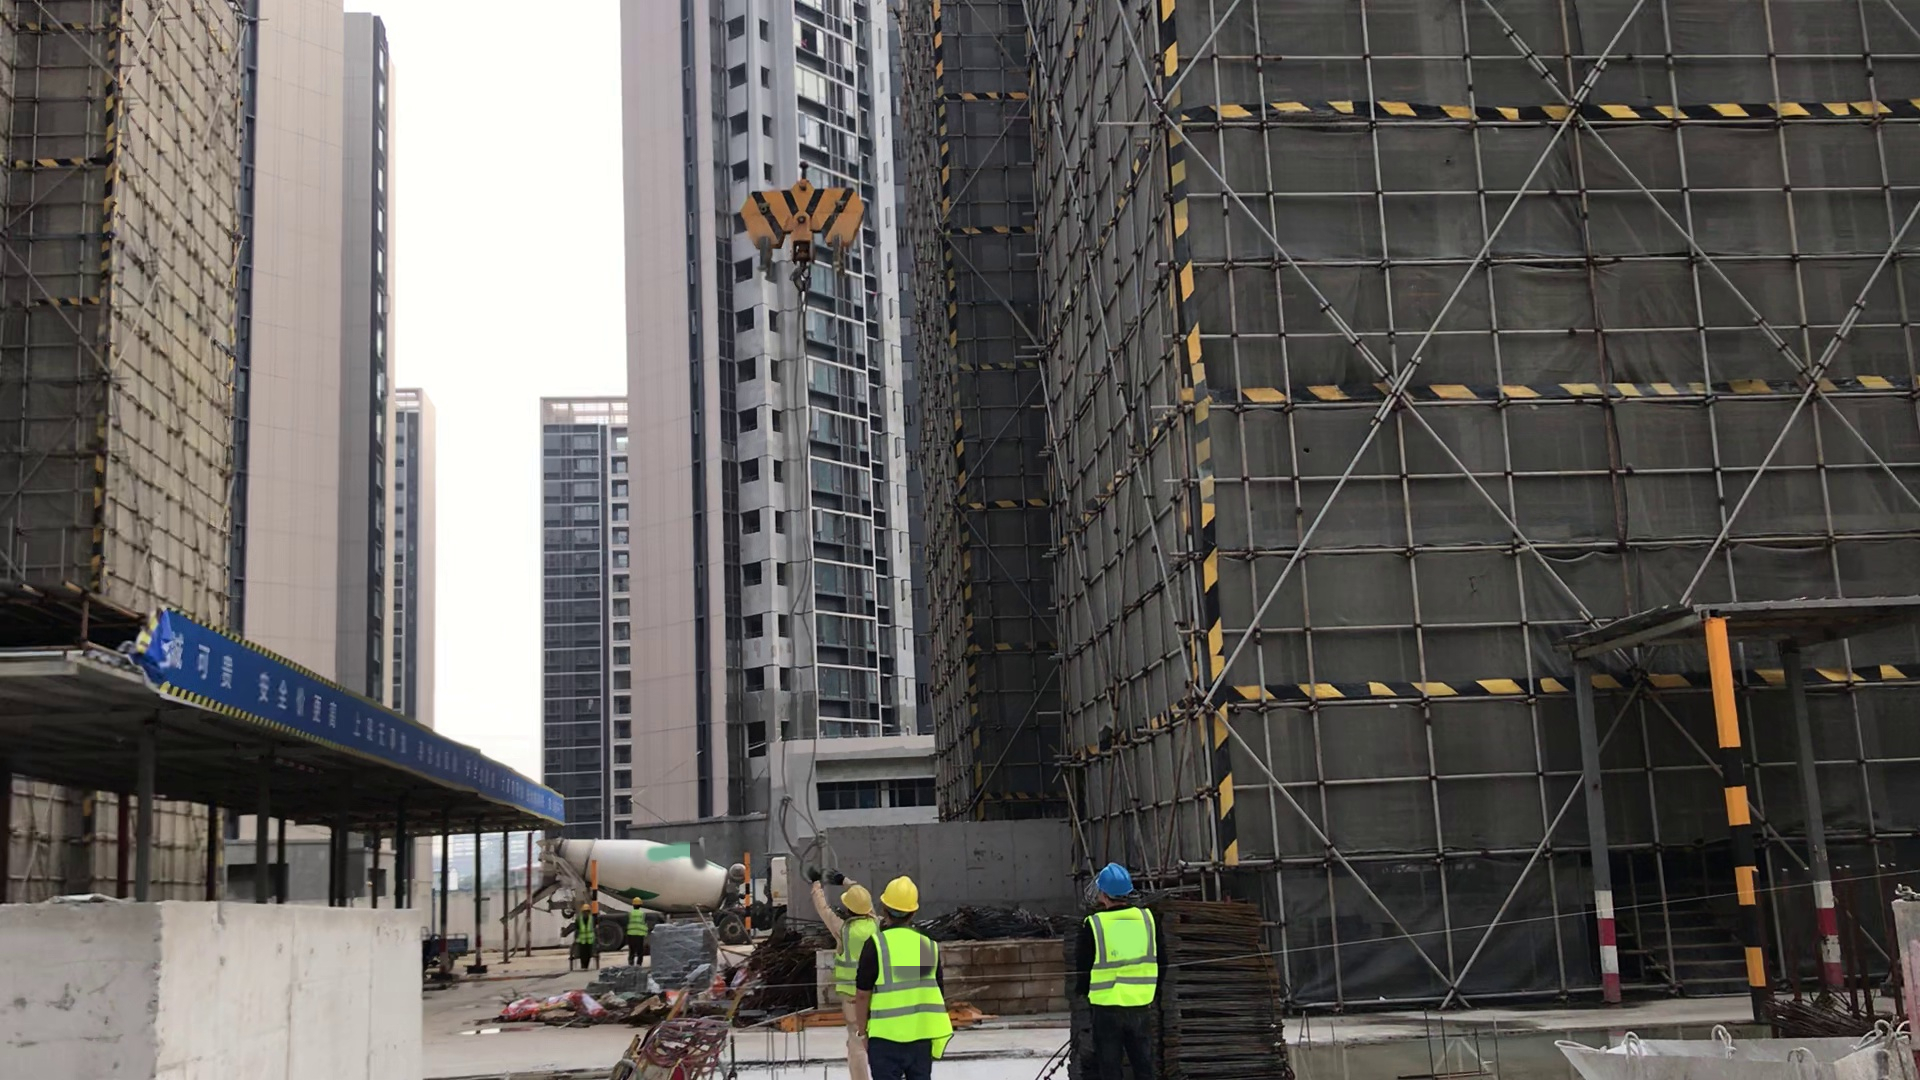helmet: (882, 877, 922, 911), (1094, 863, 1135, 896), (838, 881, 876, 912), (631, 896, 643, 906), (580, 904, 593, 912)
hook: (743, 160, 867, 290)
hopper: (1555, 1019, 1912, 1080)
person: (852, 875, 958, 1080), (1073, 861, 1164, 1080), (803, 867, 871, 1080), (622, 895, 650, 969), (573, 903, 599, 973)
slogan: (156, 624, 350, 746), (355, 704, 487, 794), (488, 769, 569, 824)
vest: (866, 925, 954, 1063), (1088, 907, 1158, 1009), (576, 914, 596, 946), (626, 910, 649, 936)
